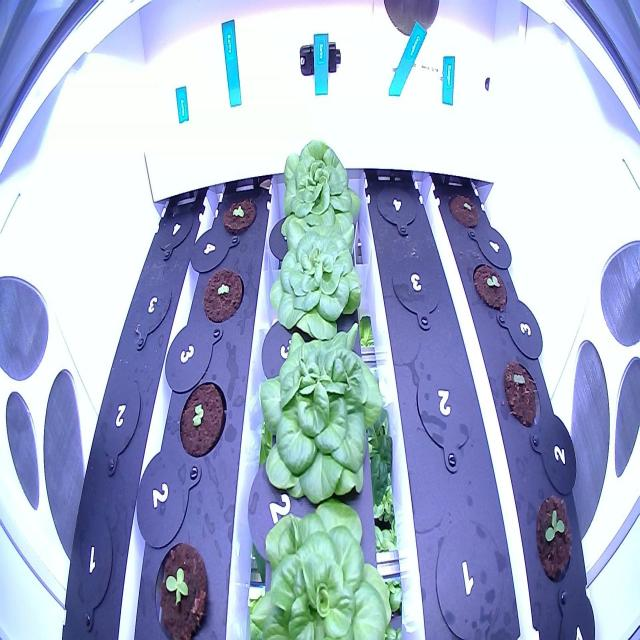empty_pod: (426, 509, 514, 639), (410, 344, 482, 478), (64, 509, 118, 639), (93, 364, 146, 481), (388, 246, 448, 336), (126, 269, 174, 355), (152, 193, 198, 269), (372, 174, 422, 240)
germination: (173, 371, 234, 460), (532, 488, 574, 592), (197, 253, 247, 331), (499, 352, 547, 433), (467, 249, 512, 316), (218, 182, 264, 239), (446, 178, 486, 233)
young: (246, 302, 403, 513), (243, 482, 403, 639), (262, 218, 385, 344), (266, 126, 369, 247), (148, 530, 215, 639)
